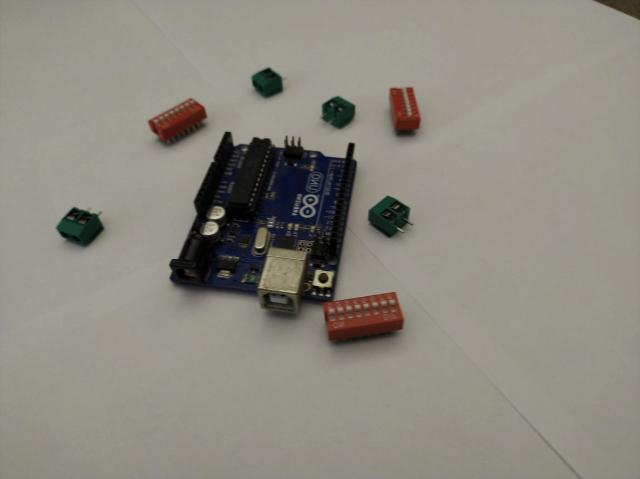arduino: (168, 132, 358, 314)
dip_switch: (323, 292, 403, 344), (148, 99, 206, 145), (389, 88, 421, 132)
terminal_block: (56, 206, 104, 248), (369, 196, 413, 238), (319, 94, 355, 130), (251, 67, 287, 97)
